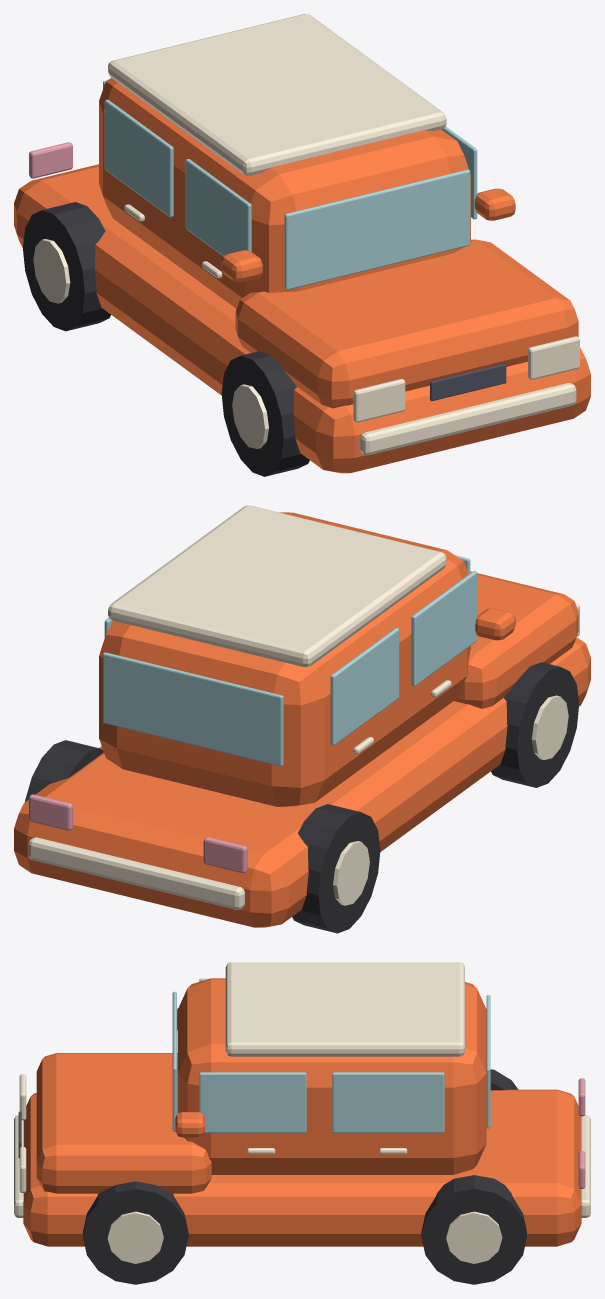
Rendered from compact_car.glb.
3 views of the same model, one above another, from view 1: azimuth 30°, elevation 25°; view 2: azimuth 150°, elevation 25°; view 3: azimuth 270°, elevation 25° (orthographic). The views are drawn at different scales.
Visible parts, largest first — view 1: compact_car__Hood, compact_car__Roof, compact_car__Chassis, compact_car__Cabin, compact_car__Windshield, compact_car__Wheel.001, compact_car__Wheel, compact_car__Front bumper, compact_car__Side window.001, compact_car__Side window, compact_car__Wheel hub, compact_car__Wheel hub.001 (+7 smaller); view 2: compact_car__Chassis, compact_car__Roof, compact_car__Cabin, compact_car__Rear window, compact_car__Hood, compact_car__Wheel.001, compact_car__Wheel, compact_car__Rear bumper, compact_car__Side window.001, compact_car__Side window, compact_car__Wheel.003, compact_car__Wheel hub (+4 smaller); view 3: compact_car__Chassis, compact_car__Cabin, compact_car__Roof, compact_car__Hood, compact_car__Side window.003, compact_car__Wheel.003, compact_car__Side window.002, compact_car__Wheel.002, compact_car__Wheel hub.002, compact_car__Wheel hub.003, compact_car__Rear bumper, compact_car__Front bumper (+3 smaller).
Part boxes in pixels (box(x1,y1,x2,y2)): compact_car__Hood: box(235, 239, 578, 408); compact_car__Roof: box(108, 14, 446, 175); compact_car__Chassis: box(14, 164, 590, 473); compact_car__Cabin: box(99, 78, 470, 308); compact_car__Windshield: box(284, 169, 470, 289); compact_car__Wheel.001: box(23, 202, 110, 331); compact_car__Wheel: box(221, 351, 309, 476); compact_car__Front bumper: box(360, 383, 576, 455); compact_car__Side window.001: box(104, 99, 173, 217); compact_car__Side window: box(185, 159, 251, 255); compact_car__Wheel hub: box(232, 384, 268, 448); compact_car__Wheel hub.001: box(33, 239, 70, 303); compact_car__Chassis: box(14, 637, 590, 927); compact_car__Roof: box(108, 505, 446, 667); compact_car__Cabin: box(99, 512, 470, 806); compact_car__Rear window: box(103, 652, 283, 766); compact_car__Hood: box(454, 571, 578, 708); compact_car__Wheel.001: box(292, 804, 380, 933); compact_car__Wheel: box(491, 662, 579, 787); compact_car__Rear bumper: box(28, 837, 244, 909); compact_car__Side window.001: box(330, 628, 399, 745); compact_car__Side window: box(411, 571, 477, 686); compact_car__Wheel.003: box(25, 740, 103, 801); compact_car__Wheel hub: box(531, 695, 568, 759); compact_car__Chassis: box(23, 1089, 581, 1246); compact_car__Cabin: box(177, 978, 486, 1174); compact_car__Roof: box(225, 962, 464, 1056); compact_car__Hood: box(36, 1053, 211, 1193); compact_car__Side window.003: box(332, 1072, 444, 1132); compact_car__Wheel.003: box(421, 1175, 526, 1284); compact_car__Side window.002: box(199, 1072, 306, 1132); compact_car__Wheel.002: box(83, 1181, 188, 1284); compact_car__Wheel hub.002: box(107, 1211, 163, 1263); compact_car__Wheel hub.003: box(446, 1211, 502, 1263); compact_car__Rear bumper: box(581, 1115, 590, 1217); compact_car__Front bumper: box(14, 1115, 23, 1217).
Size of the model in its own units: 0.3616 by 0.2955 by 0.6988.
